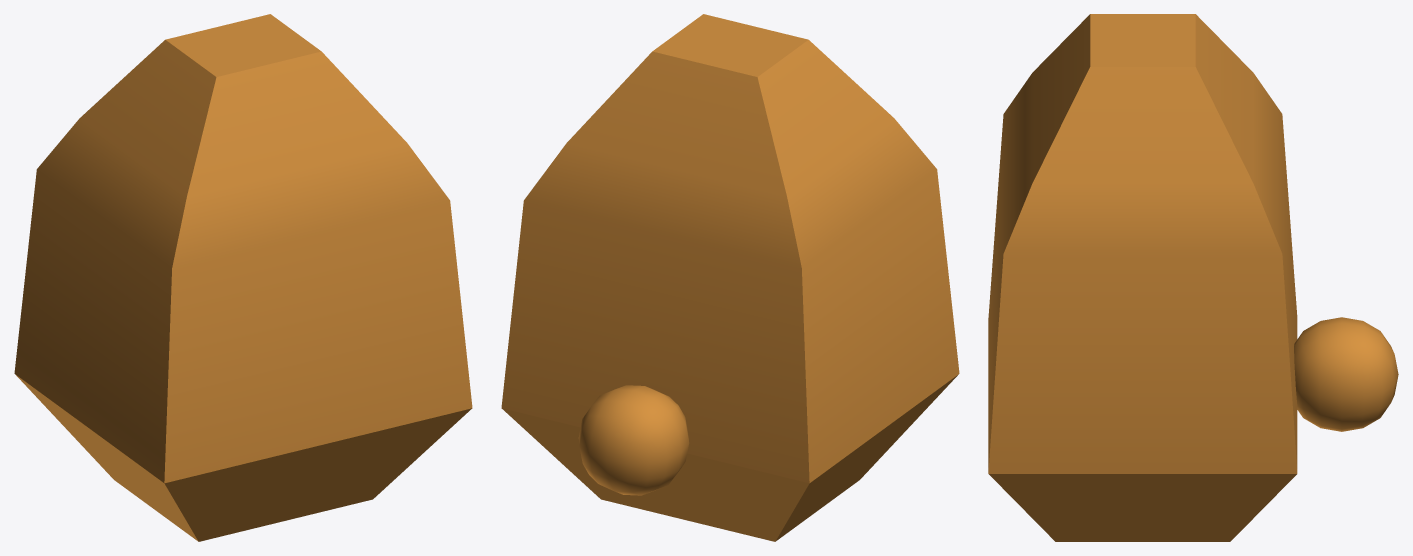
File: Body.obj
The picture shows the model from 3 angles, left to right: view 1: azimuth 30°, elevation 25°; view 2: azimuth 150°, elevation 25°; view 3: azimuth 270°, elevation 25°; orthographic projection. The views are drawn at different scales.
Parts seen in each view (by area): view 1: Body; view 2: Body; view 3: Body.
Boxes of the visible parts, x1,y1,x2,y2 form: Body: [14, 14, 472, 541]; Body: [501, 14, 959, 541]; Body: [988, 14, 1398, 541].
Bounding box in the file's own units: 0.3082 × 0.4245 × 0.3447.
